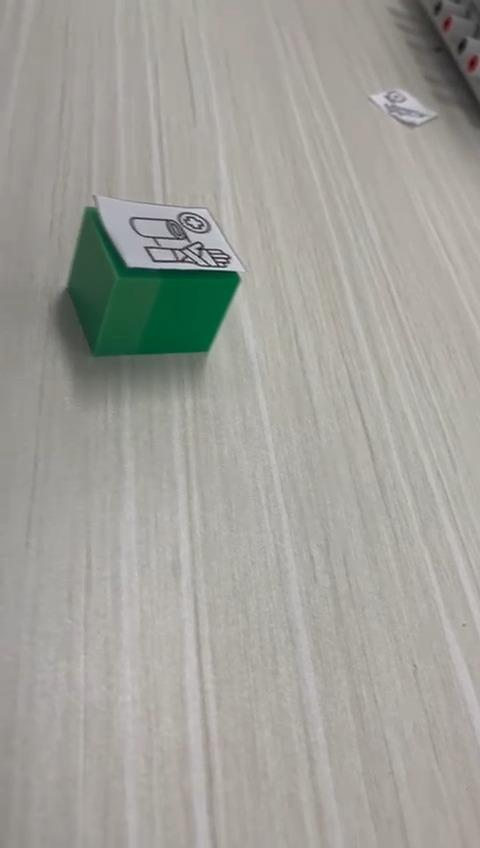Bandages: (67, 193, 249, 357)
